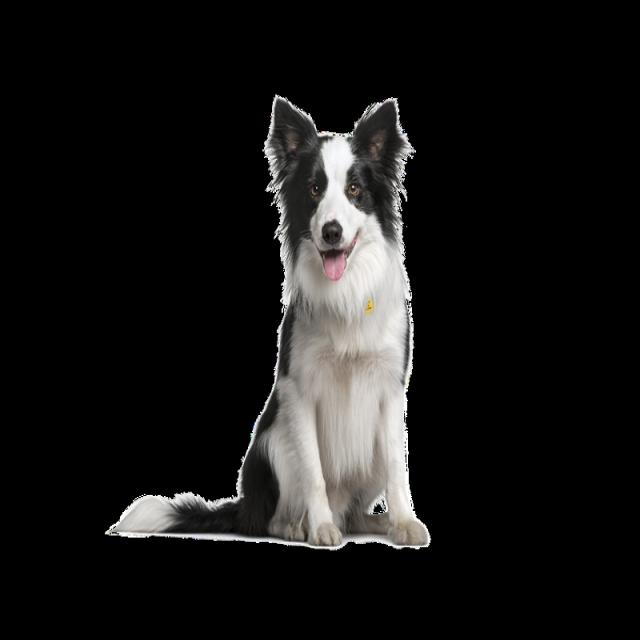BORDER_COLLIE: (115, 83, 442, 581)
